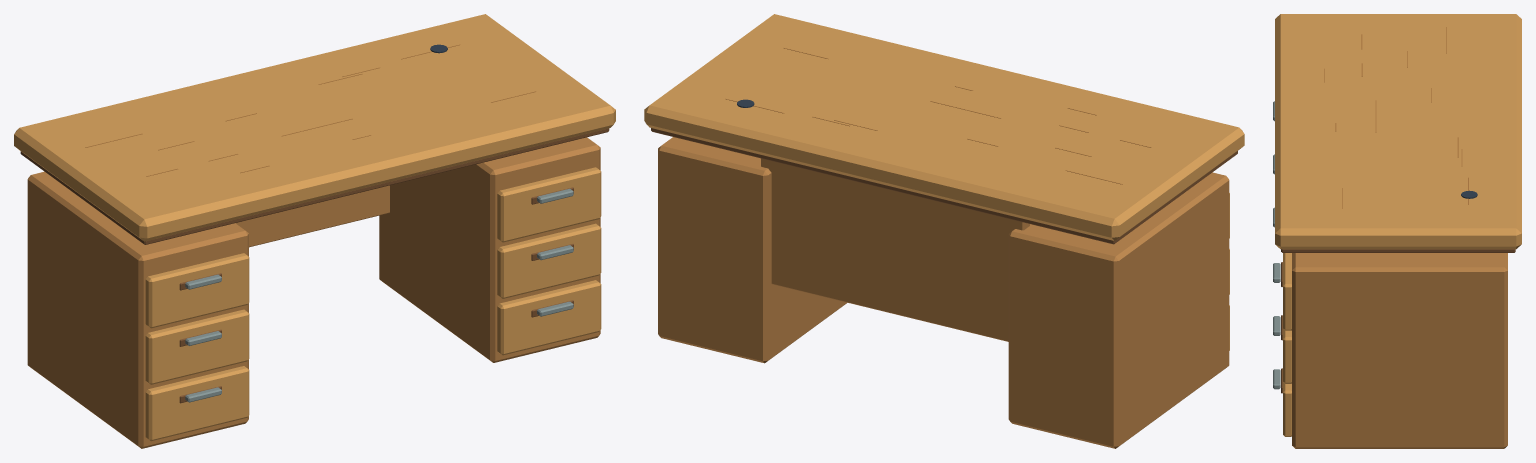
The model's file is desk_oak.glb.
3 renders of one model, left to right at view 1: azimuth 30°, elevation 25°; view 2: azimuth 150°, elevation 25°; view 3: azimuth 270°, elevation 25°, orthographic. The views are drawn at different scales.
Visible parts, largest first — view 1: desk_oak__oak_top, desk_oak__oak, desk_oak__oak_dark, desk_oak__metal_light, desk_oak__oak_grain; view 2: desk_oak__oak, desk_oak__oak_top, desk_oak__oak_dark, desk_oak__oak_grain; view 3: desk_oak__oak_top, desk_oak__oak, desk_oak__oak_dark, desk_oak__metal_light, desk_oak__oak_grain.
Part boxes in pixels (bbox=[...]): desk_oak__oak_top: bbox=[14, 14, 615, 441]; desk_oak__oak: bbox=[27, 137, 600, 448]; desk_oak__oak_dark: bbox=[20, 128, 609, 403]; desk_oak__metal_light: bbox=[185, 188, 573, 402]; desk_oak__oak_grain: bbox=[85, 44, 535, 176]; desk_oak__oak: bbox=[658, 137, 1229, 448]; desk_oak__oak_top: bbox=[644, 14, 1244, 350]; desk_oak__oak_dark: bbox=[651, 128, 1237, 244]; desk_oak__oak_grain: bbox=[725, 48, 1151, 184]; desk_oak__oak_top: bbox=[1275, 14, 1521, 436]; desk_oak__oak: bbox=[1292, 253, 1507, 448]; desk_oak__oak_dark: bbox=[1281, 249, 1515, 393]; desk_oak__metal_light: bbox=[1273, 101, 1280, 389]; desk_oak__oak_grain: bbox=[1324, 27, 1468, 208].
Size of the model in its own units: 1.68 by 0.802 by 0.806.
